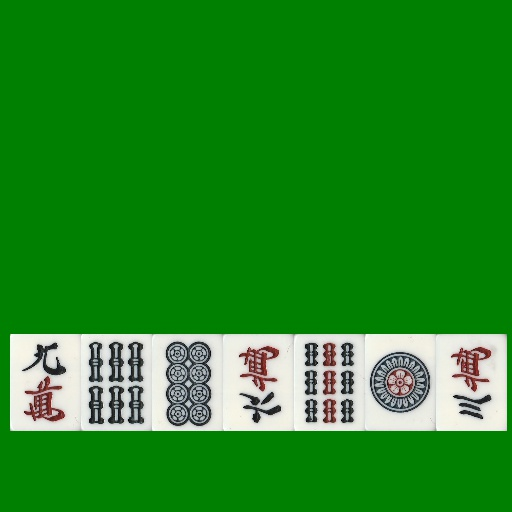1p: (365, 334, 436, 431)
3m: (436, 334, 507, 431)
6m: (223, 334, 294, 431)
6s: (81, 334, 152, 431)
8p: (152, 334, 223, 431)
9m: (10, 334, 81, 431)
9s: (294, 334, 365, 431)
